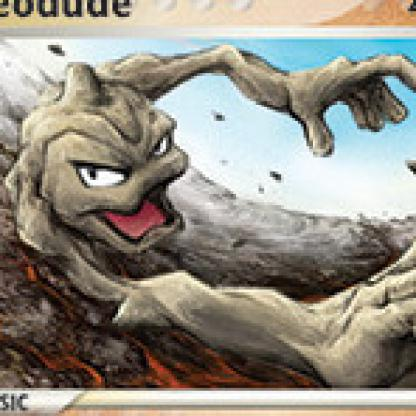Geodude: (1, 4, 416, 416)
